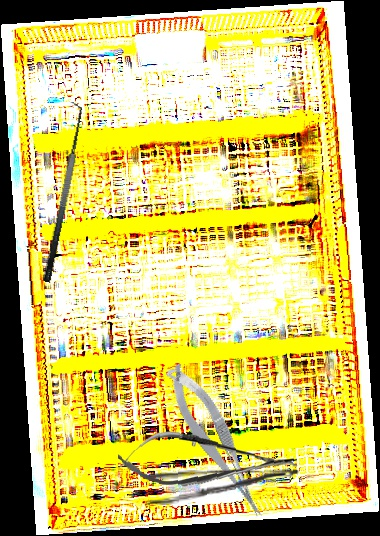Dressing Forceps: (143, 466, 300, 506)
Micro Scissor: (160, 354, 269, 530), (116, 428, 299, 494)
Spatula Surgical: (27, 101, 92, 283)
